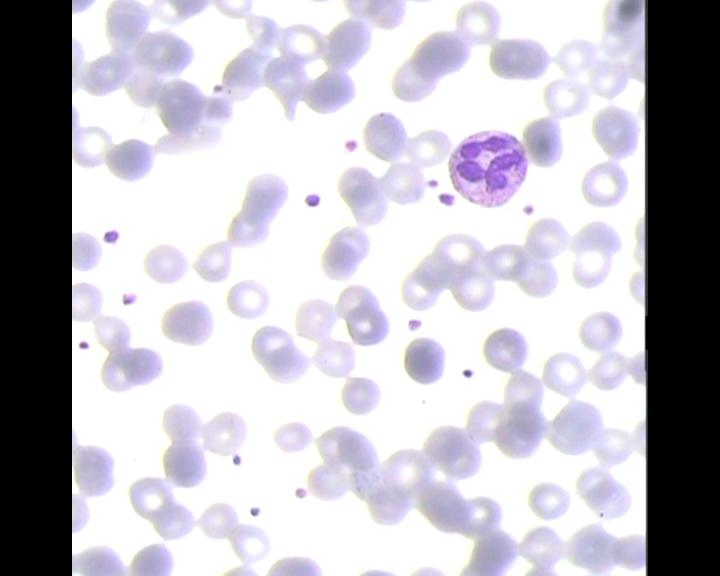neut: (447, 124, 532, 210)
